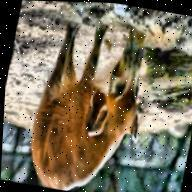boar: (29, 9, 165, 192)
